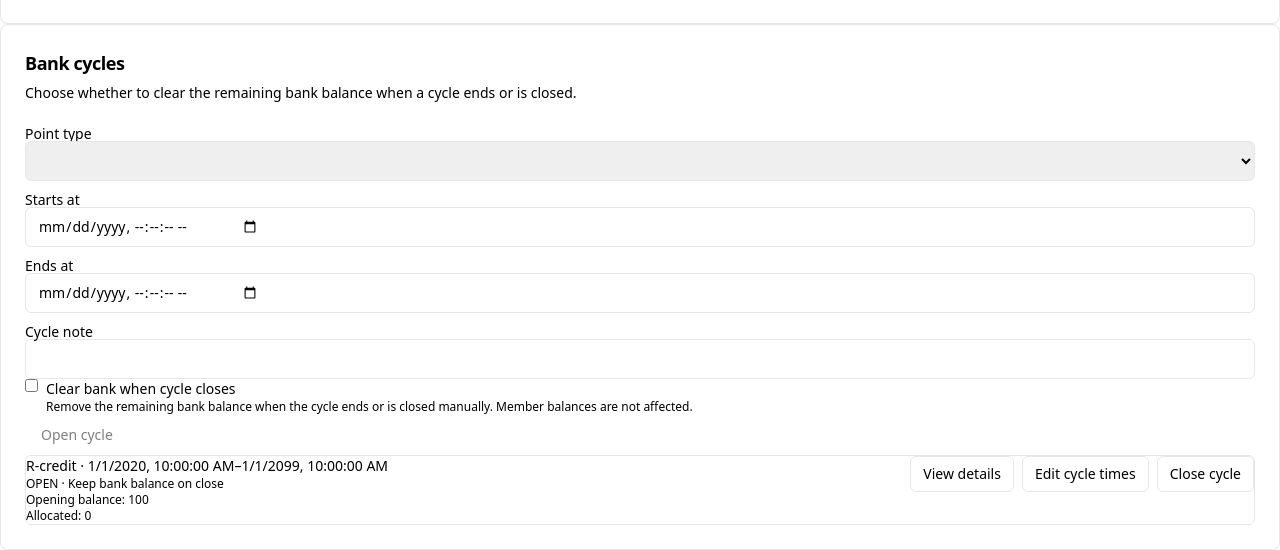
saves the clear-bank setting without requiring a time change
The image size is (1280, 550).
(page scrolled)
Click the button "Edit cycle times". click: (1085, 474)
box: [1022,456,1149,492]
(page scrolled)
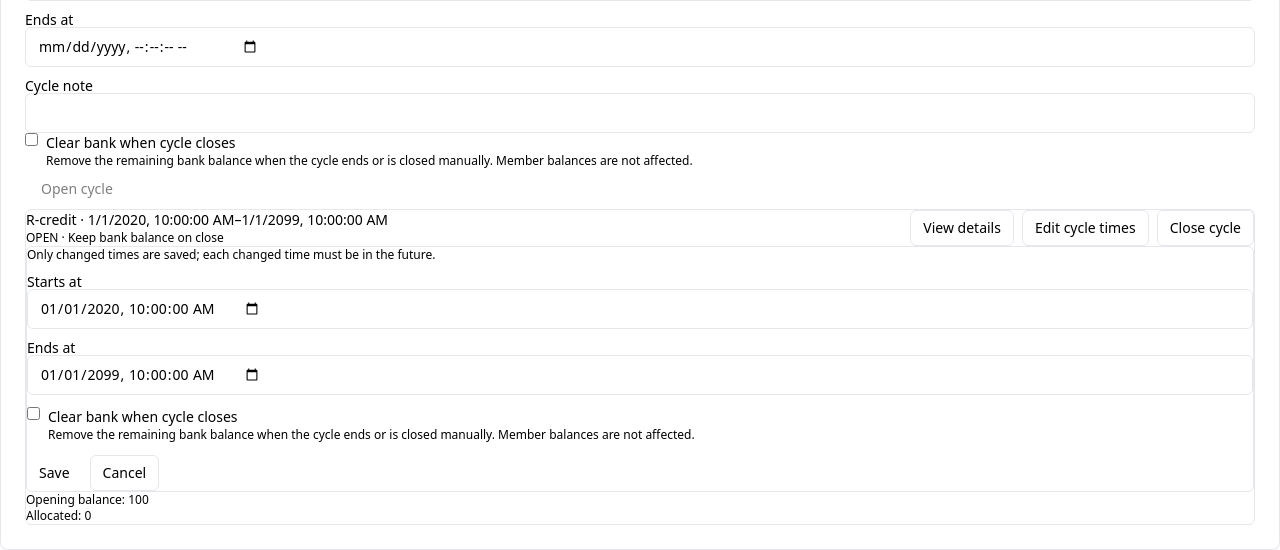
Expected: the checkbox labelled "Clear bank when cycle closes" below "Keep bank balance on close" is not checked
Click the checkbox labelled "Clear bank when cycle closes" below "Keep bank balance on close". click: (34, 414)
box: [27,407,40,420]
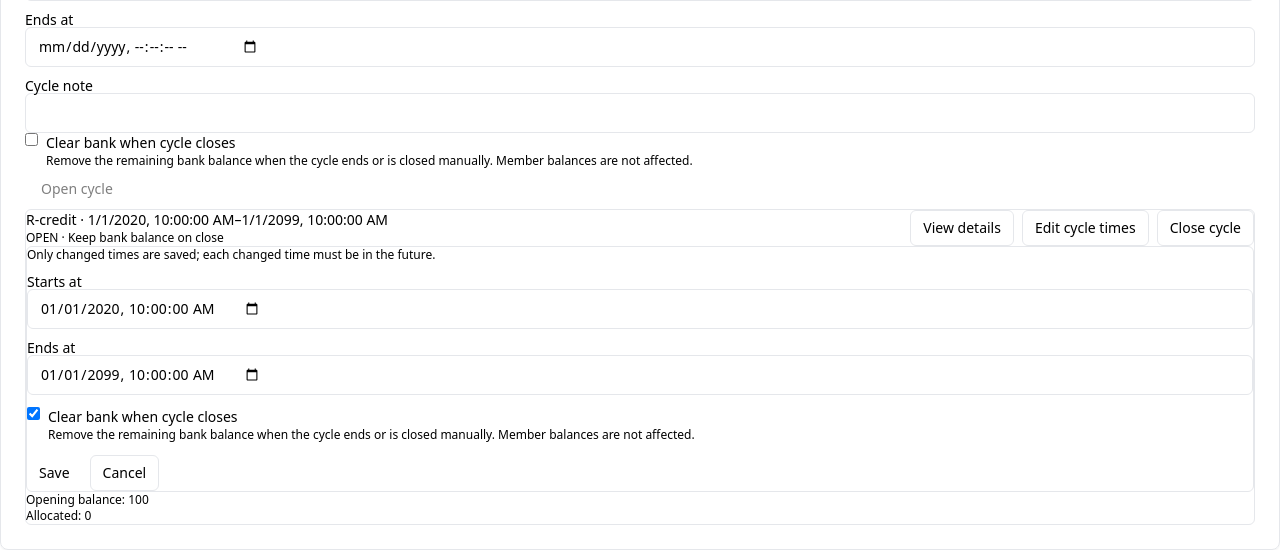
Click the button "Save". click: (54, 473)
box: [27,455,82,491]
(page scrolled)
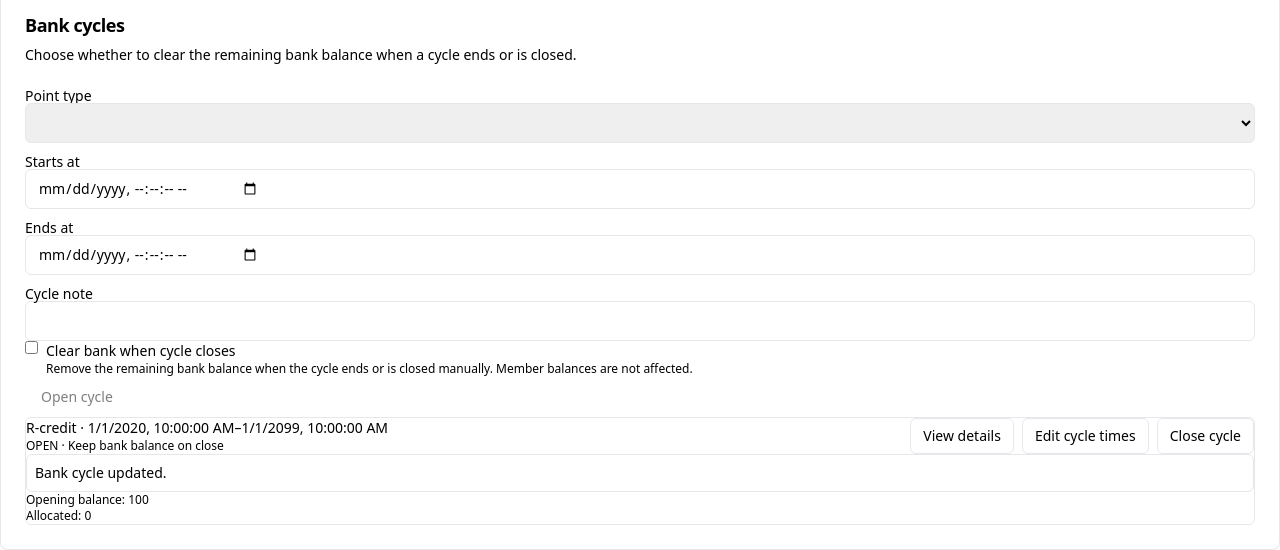
Expected: the text "Bank cycle updated." is shown, [26,454,1254,492]
